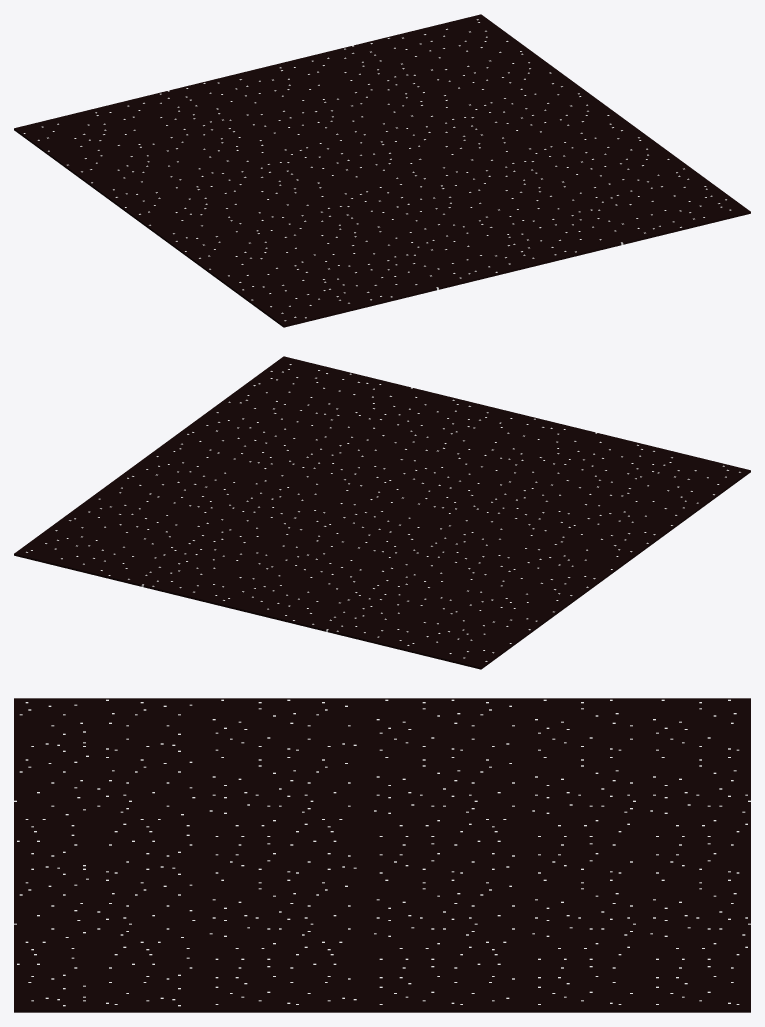
Rendered from space.obj.
3 views of the same model, one above another, from view 1: azimuth 30°, elevation 25°; view 2: azimuth 150°, elevation 25°; view 3: azimuth 270°, elevation 25° (orthographic). The views are drawn at different scales.
Bounding box in the file's own units: 25.6 × 0.1 × 25.6.
Materials: 1 (1 with a texture image).
